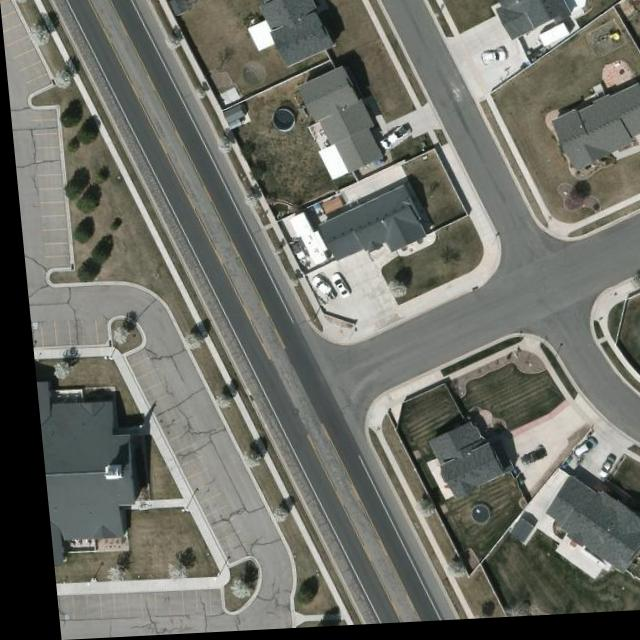vehicle: (370, 130, 411, 155), (507, 448, 541, 475), (304, 275, 331, 309), (478, 50, 508, 75), (561, 444, 591, 466), (324, 276, 346, 303), (587, 460, 607, 484)
